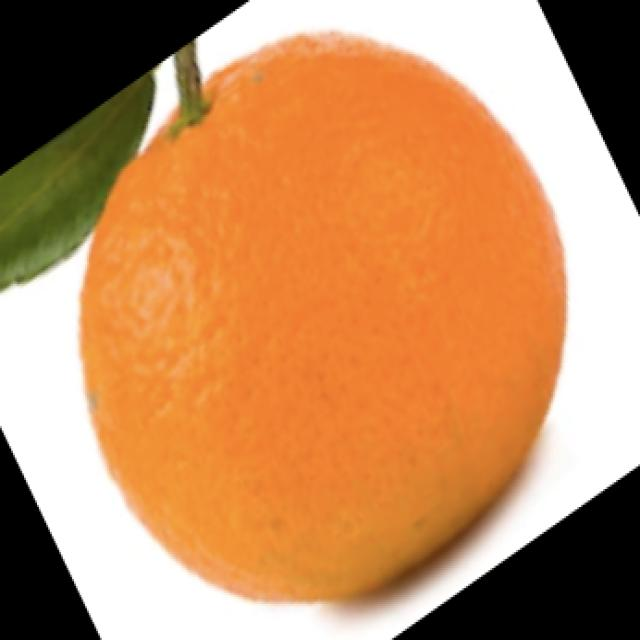matang: (74, 18, 567, 608)
